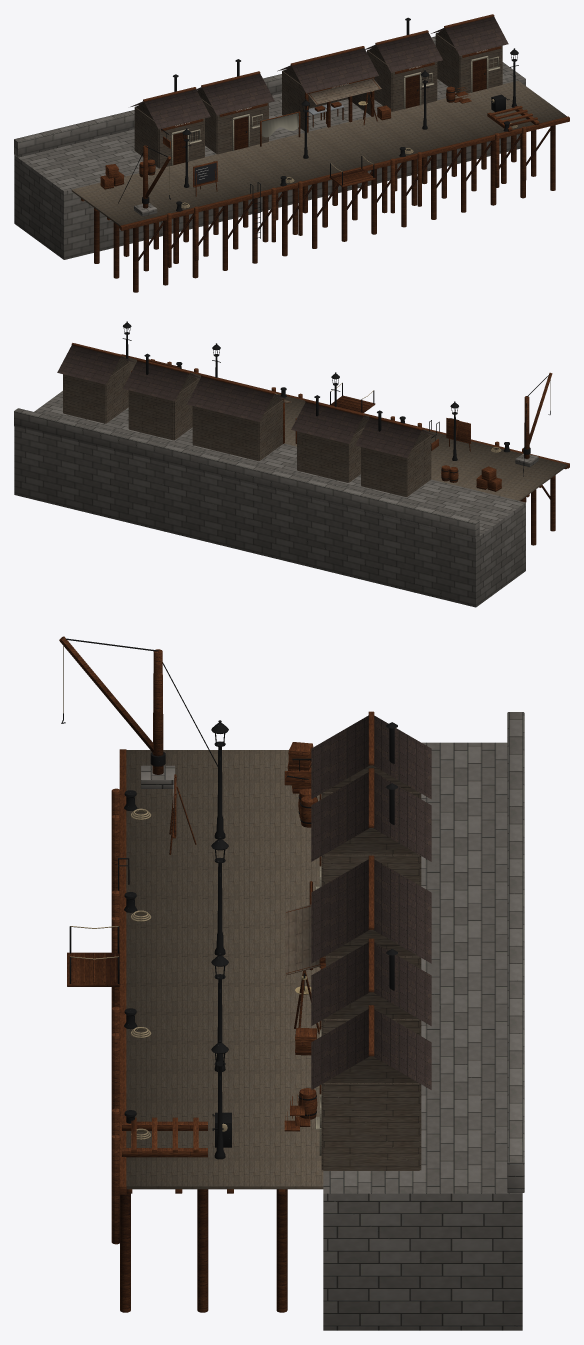
The model's file is dock.glb.
The picture shows the model from 3 angles, top to bottom: view 1: azimuth 30°, elevation 25°; view 2: azimuth 150°, elevation 25°; view 3: azimuth 270°, elevation 25°; orthographic projection. The views are drawn at different scales.
Visible parts, largest first — view 1: boat_house, boat_deck, boat_stone, boat_shed, boat_shingle, boat_iron, boat_cream, boat_canvas, boat_coal; view 2: boat_stone, boat_shed, boat_shingle, boat_deck, boat_house, boat_iron; view 3: boat_stone, boat_deck, boat_shingle, boat_house, boat_shed, boat_iron, boat_rope.
Part boxes in pixels (x1,y1,x2,y2): boat_house: [81, 14, 569, 292]; boat_deck: [71, 80, 566, 226]; boat_stone: [14, 36, 525, 259]; boat_shed: [134, 29, 502, 168]; boat_shingle: [130, 16, 508, 129]; boat_iron: [118, 17, 518, 240]; boat_cream: [171, 55, 500, 165]; boat_canvas: [261, 113, 298, 137]; boat_coal: [194, 163, 216, 184]; boat_stone: [14, 391, 538, 607]; boat_shed: [63, 358, 431, 496]; boat_shingle: [57, 345, 436, 457]; boat_deck: [122, 356, 567, 500]; boat_house: [71, 343, 569, 545]; boat_iron: [122, 321, 550, 480]; boat_stone: [141, 712, 524, 1330]; boat_deck: [126, 750, 323, 1189]; boat_shingle: [311, 715, 431, 1089]; boat_house: [59, 636, 374, 1312]; boat_shed: [285, 765, 421, 1170]; boat_iron: [61, 638, 397, 1159]; boat_rope: [63, 646, 227, 1139].
Bounding box in the file's own units: 31 × 9.15 × 13.52.
14 materials, 7 textured.
